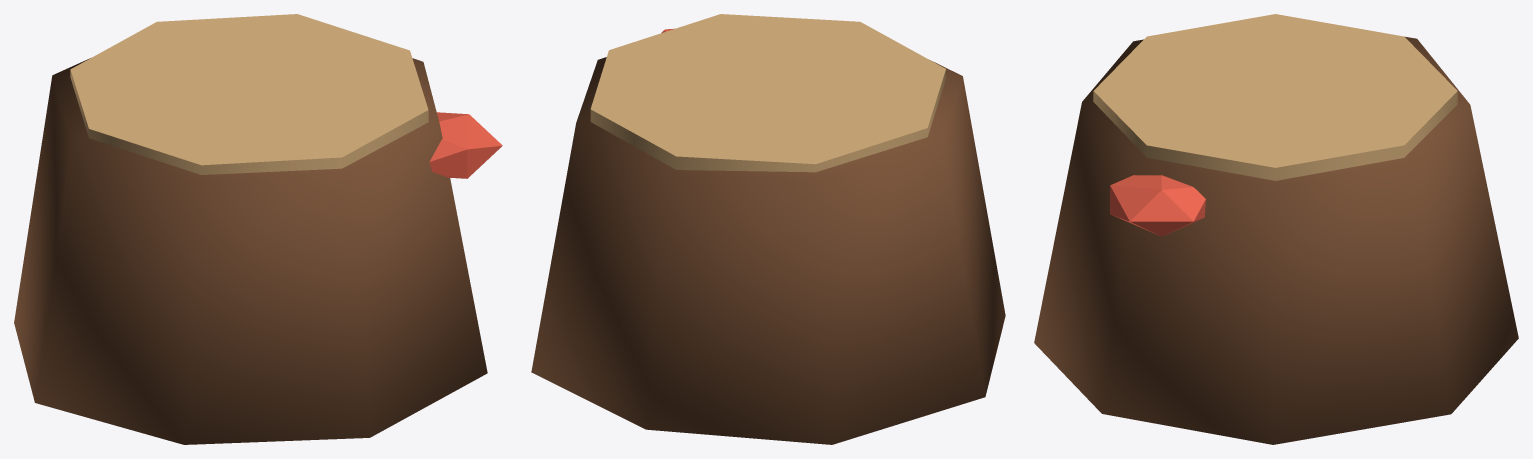
The model's file is stage1_stump.glb.
The picture shows the model from 3 angles, left to right: view 1: azimuth 30°, elevation 25°; view 2: azimuth 150°, elevation 25°; view 3: azimuth 270°, elevation 25°; orthographic projection.
Visible parts, largest first — view 1: stage1_stump_bark, stage1_stump_ring, stage1_stump_shroom; view 2: stage1_stump_bark, stage1_stump_ring; view 3: stage1_stump_bark, stage1_stump_ring, stage1_stump_shroom.
Part boxes in pixels (x1,y1,x2,y2): stage1_stump_bark: (14,58,487,444); stage1_stump_ring: (70,14,428,174); stage1_stump_shroom: (429,112,502,178); stage1_stump_bark: (531,57,1005,444); stage1_stump_ring: (590,14,945,172); stage1_stump_bark: (1034,36,1518,444); stage1_stump_ring: (1093,14,1457,180); stage1_stump_shroom: (1110,175,1205,236).
Size of the model in its own units: 0.6473 by 0.3703 by 0.6388.
